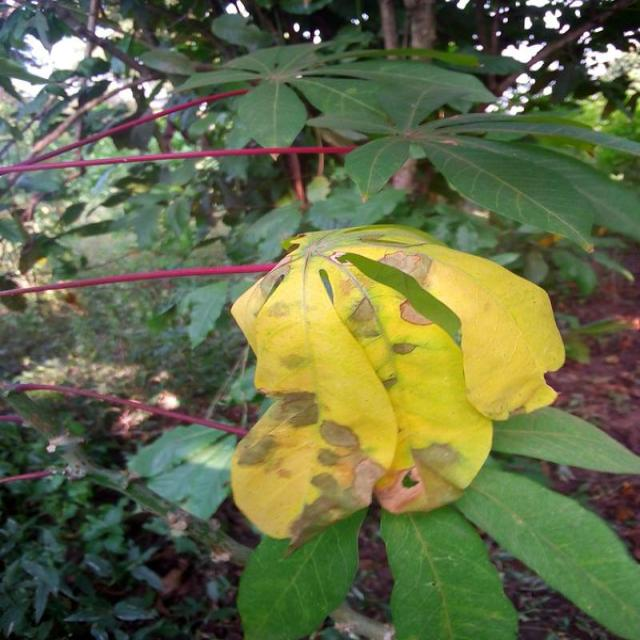cassava leaf: (228, 222, 567, 551)
